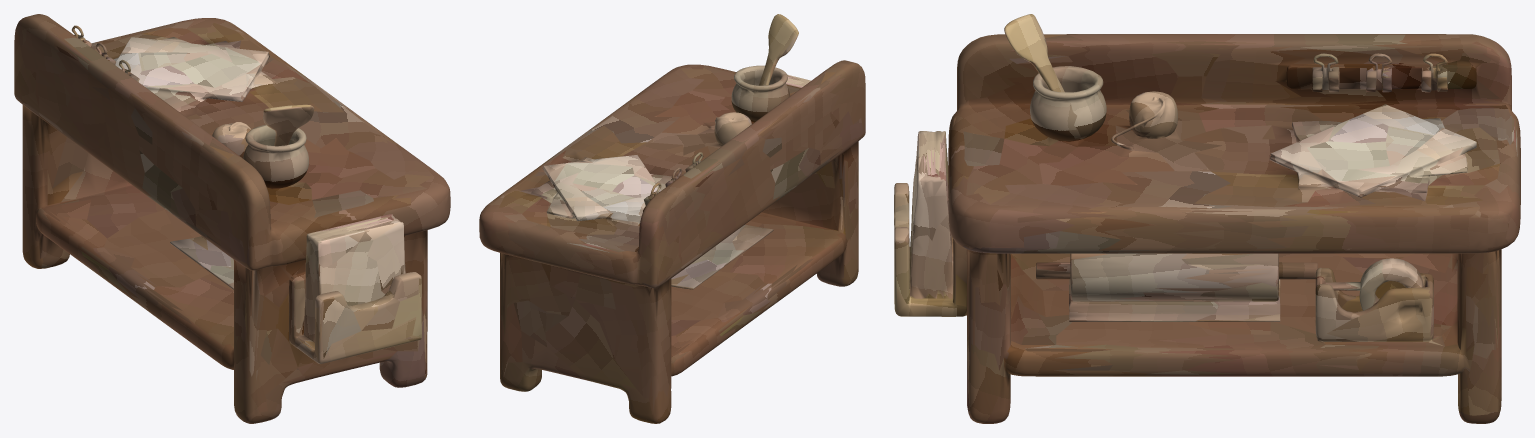
File: JP_사물_s2_prop_packing_desk.glb
3 views of the same model, side by side, from view 1: azimuth 30°, elevation 25°; view 2: azimuth 150°, elevation 25°; view 3: azimuth 270°, elevation 25° (orthographic). The views are drawn at different scales.
Visible parts, largest first — view 1: tripo_node_1fe2518d-e5d4-48f3-ac6a-fd2bc4946635; view 2: tripo_node_1fe2518d-e5d4-48f3-ac6a-fd2bc4946635; view 3: tripo_node_1fe2518d-e5d4-48f3-ac6a-fd2bc4946635.
Part boxes in pixels (x1,y1,x2,y2): tripo_node_1fe2518d-e5d4-48f3-ac6a-fd2bc4946635: (14, 14, 450, 423); tripo_node_1fe2518d-e5d4-48f3-ac6a-fd2bc4946635: (479, 14, 865, 423); tripo_node_1fe2518d-e5d4-48f3-ac6a-fd2bc4946635: (894, 14, 1520, 423).
Size of the model in its own units: 0.4543 by 0.5997 by 1.
Materials: 1 (1 with a texture image).
